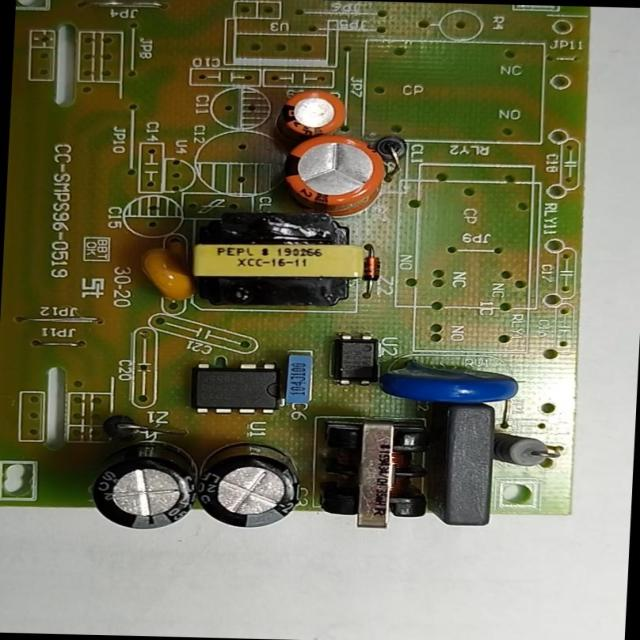Cap1: (280, 132, 387, 213)
Cap2: (280, 89, 344, 133)
Cap3: (196, 442, 302, 529)
Cap4: (88, 441, 198, 533)
MOSFET: (194, 359, 280, 416)
Mov: (379, 362, 522, 407)
Resistor: (492, 430, 563, 470)
Transformer: (185, 212, 369, 312), (309, 417, 432, 531)
